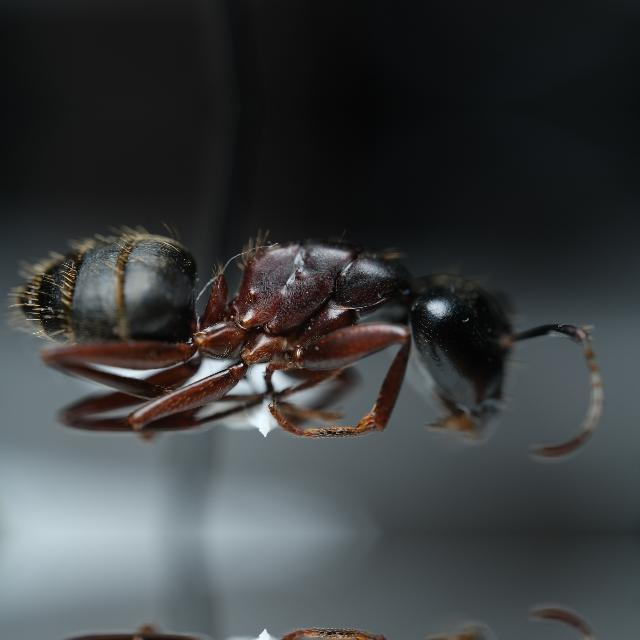Camponotus: (3, 198, 599, 454)
